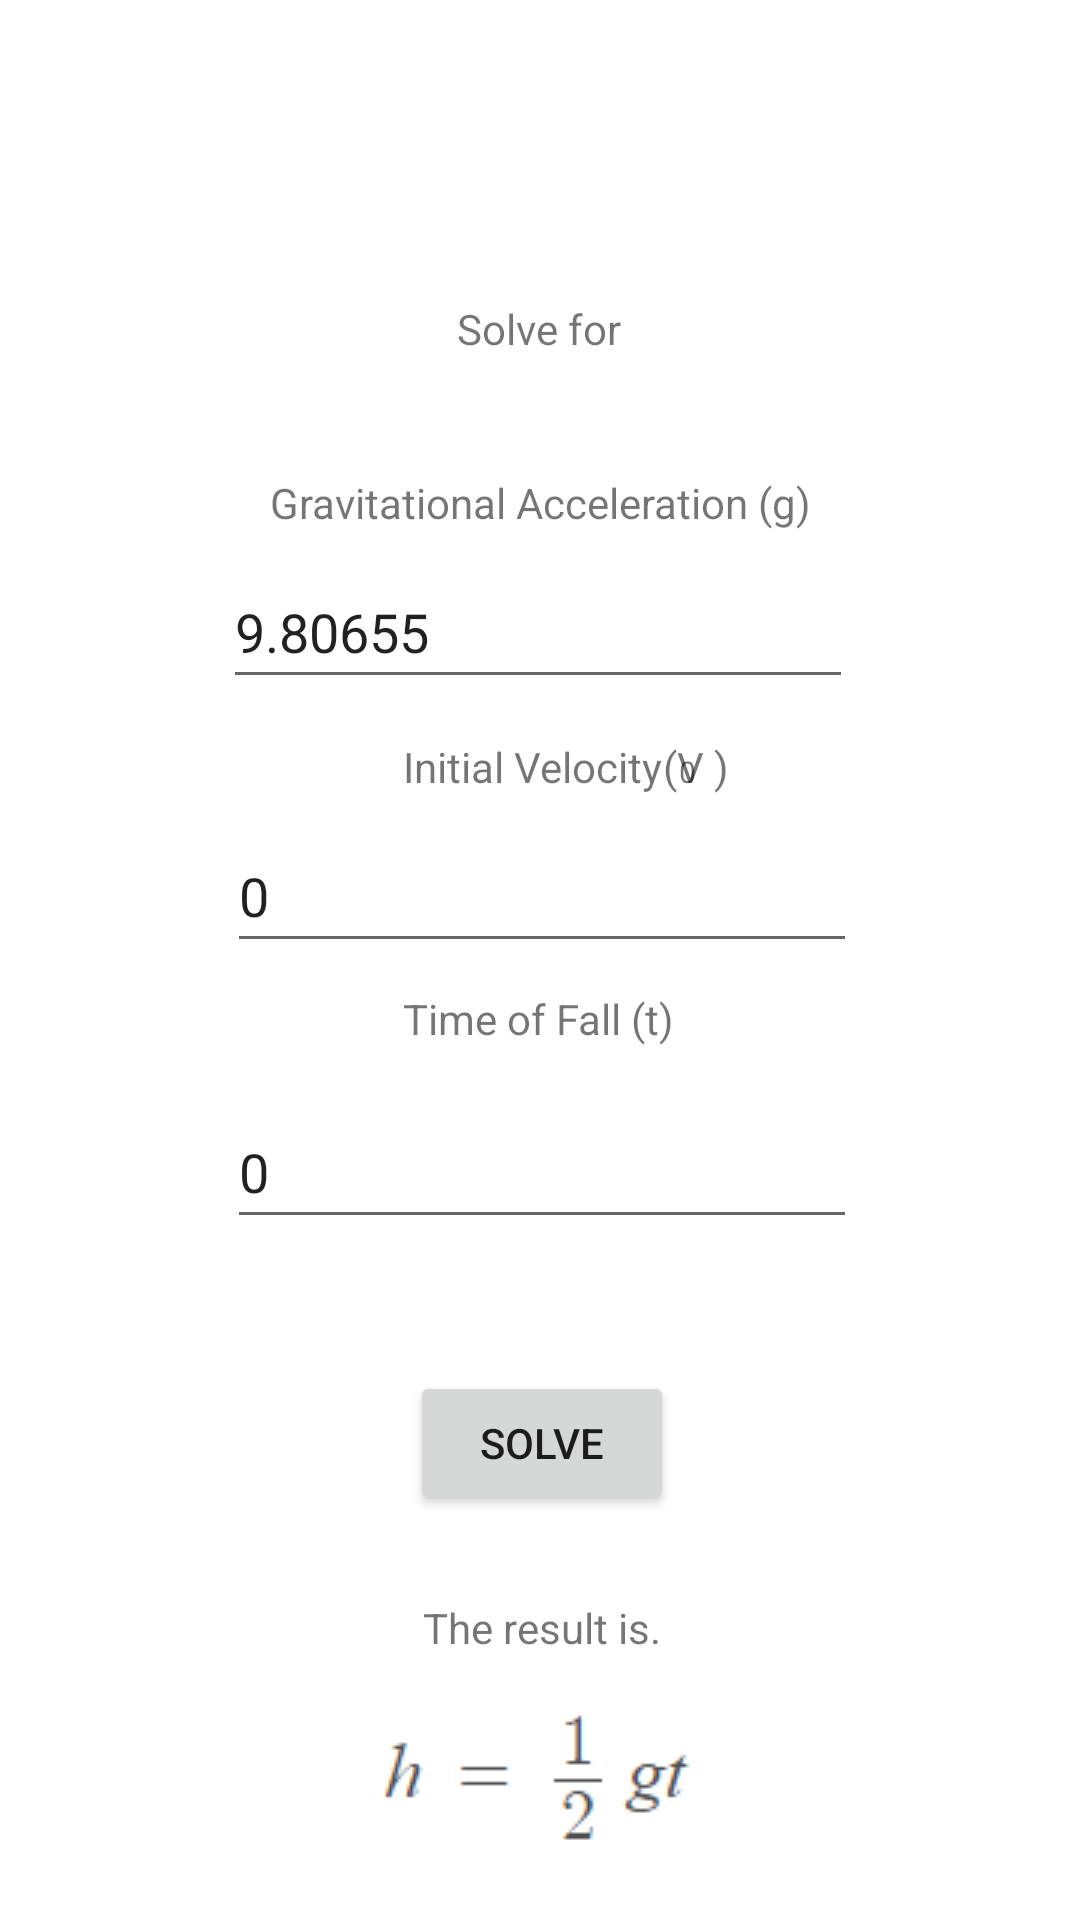

Icon click points for this 1080*1920 phone screenshot, format (x=x, y=y):
formula freefalldistance: (x=536, y=1777)
